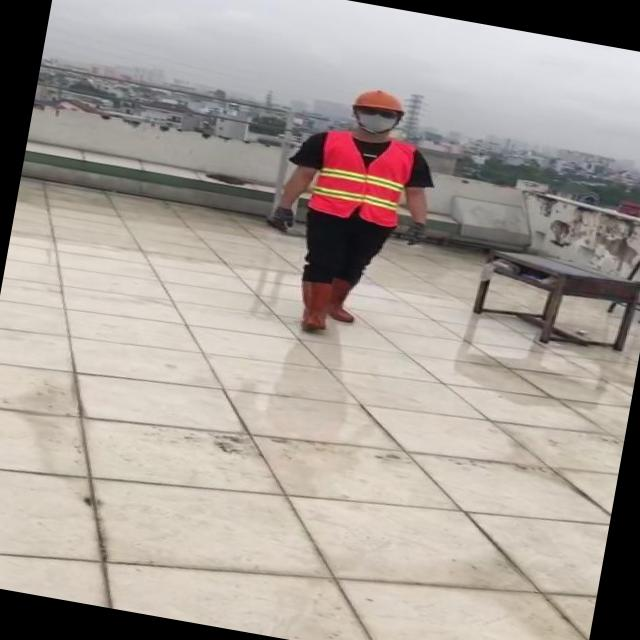hard_hat: (350, 84, 410, 116)
safety_vest: (310, 126, 417, 230)
vehicle: (247, 72, 449, 349)
work_boots: (292, 278, 336, 332), (328, 281, 362, 325)
